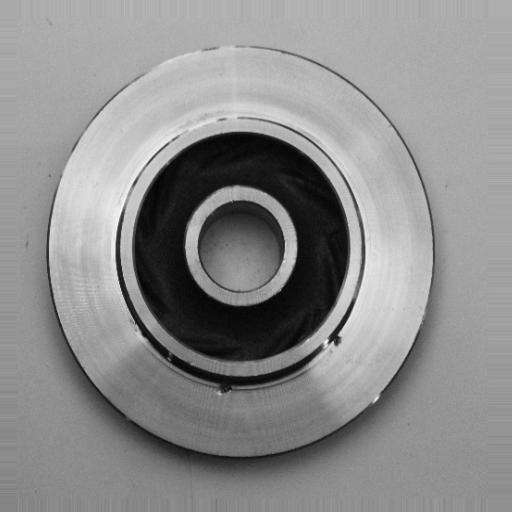crack: (209, 371, 245, 399), (320, 330, 351, 353)
scratch: (163, 108, 252, 141)
unpolished_casting: (45, 40, 438, 463)
